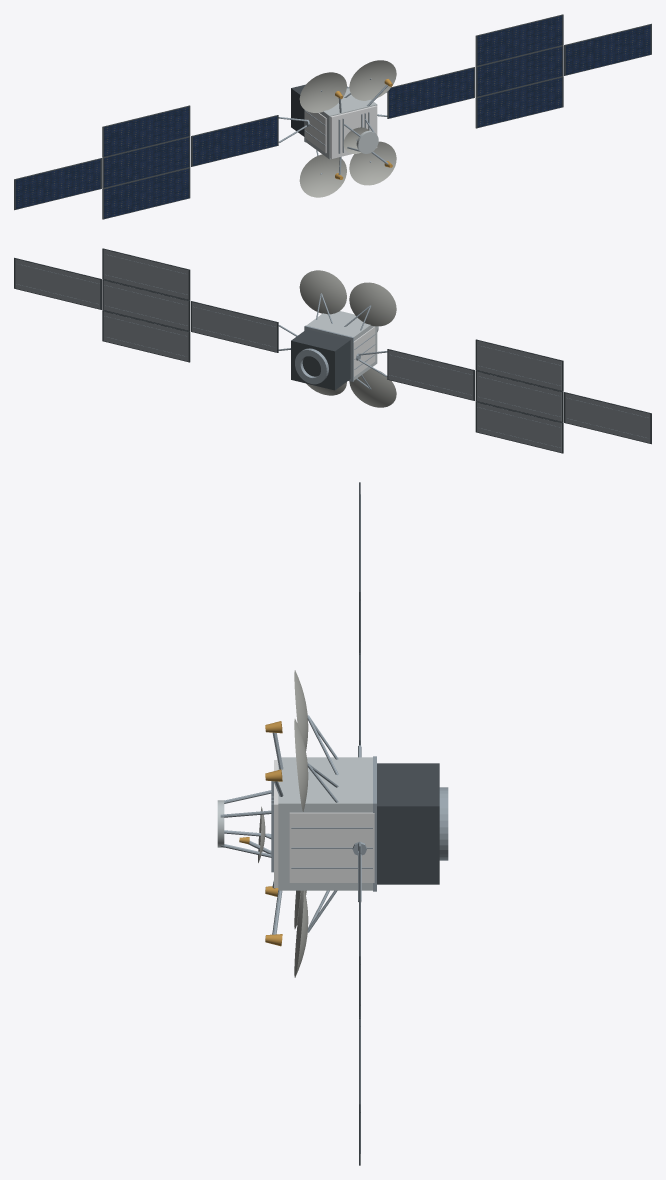
Rendered from ssl-1300-broadband-cross.glb.
3 renders of one model, top to bottom at view 1: azimuth 30°, elevation 25°; view 2: azimuth 150°, elevation 25°; view 3: azimuth 270°, elevation 25°, orthographic. The views are drawn at different scales.
Parts seen in each view (by area): view 1: Solar cell panel (×10), Communications reflector (×4), Solar panel frame (×10), Earth-facing deck, Payload module, Radiator face, Service module, Antenna tower platform, Deck-mounted reflector; view 2: Rear array substrate (×10), Communications reflector (×3), Solar panel frame (×10), Service module, Payload module, Radiator face, Launch adapter ring, Module interface; view 3: Service module, Payload module, Radiator face.
Part boxes in pixels (left/top/right/bottom): Solar cell panel (×10): left=15, top=15, right=650, bottom=218; Communications reflector (×4): left=299, top=60, right=396, bottom=197; Solar panel frame (×10): left=14, top=14, right=651, bottom=219; Earth-facing deck: left=330, top=105, right=377, bottom=158; Payload module: left=305, top=88, right=377, bottom=159; Radiator face: left=304, top=110, right=326, bottom=152; Service module: left=291, top=84, right=347, bottom=136; Antenna tower platform: left=356, top=130, right=378, bottom=153; Deck-mounted reflector: left=343, top=127, right=368, bottom=153; Rear array substrate (×10): left=15, top=249, right=650, bottom=452; Communications reflector (×3): left=299, top=270, right=396, bottom=407; Solar panel frame (×10): left=14, top=248, right=651, bottom=453; Service module: left=291, top=329, right=350, bottom=390; Payload module: left=306, top=311, right=377, bottom=380; Radiator face: left=353, top=326, right=375, bottom=376; Launch adapter ring: left=295, top=348, right=328, bottom=384; Module interface: left=304, top=325, right=353, bottom=381; Service module: left=377, top=763, right=439, bottom=884; Payload module: left=278, top=757, right=372, bottom=890; Radiator face: left=289, top=812, right=374, bottom=882.
Size of the model in its own units: 36.05 by 6.69 by 5.65.
8 materials, 1 textured.
